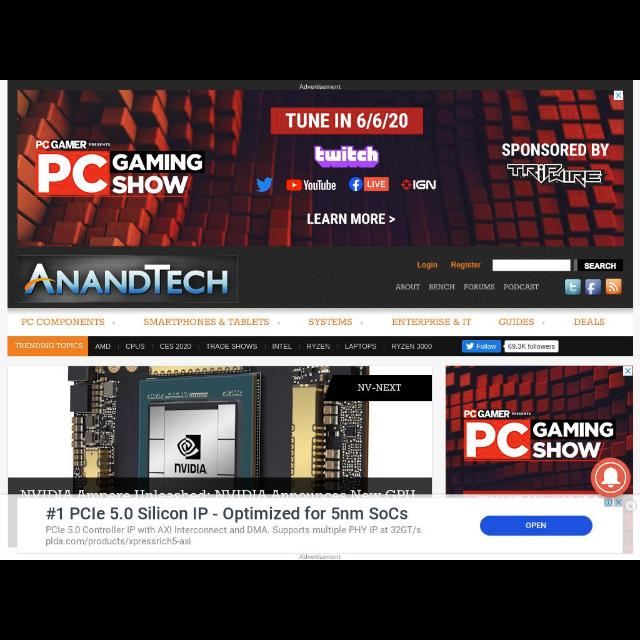icon: (358, 319, 366, 326), (276, 319, 282, 327), (540, 320, 548, 326), (112, 320, 116, 326)
iframe: (8, 80, 624, 248), (9, 365, 634, 495), (21, 500, 623, 554)
image: (20, 255, 238, 301), (604, 278, 622, 296), (584, 280, 600, 294), (566, 280, 580, 294)
input: (491, 258, 572, 272)
multitab: (8, 309, 634, 335), (90, 338, 444, 356)
spinner: (137, 311, 289, 331), (12, 312, 126, 332), (306, 310, 372, 332), (488, 314, 558, 332)
text: (389, 314, 476, 332), (144, 316, 270, 326), (20, 316, 106, 328), (308, 317, 354, 329), (506, 341, 556, 351), (206, 342, 258, 350), (498, 316, 534, 326), (392, 342, 432, 350), (464, 282, 494, 292), (504, 284, 538, 292), (573, 319, 607, 327), (160, 342, 192, 350), (344, 342, 376, 350), (451, 261, 482, 269), (429, 282, 455, 290), (396, 283, 420, 291), (124, 343, 146, 351), (418, 261, 438, 269), (272, 342, 292, 350), (308, 343, 329, 349), (96, 342, 110, 350)
textbutton: (8, 338, 88, 354), (574, 260, 624, 272), (462, 341, 502, 351)
